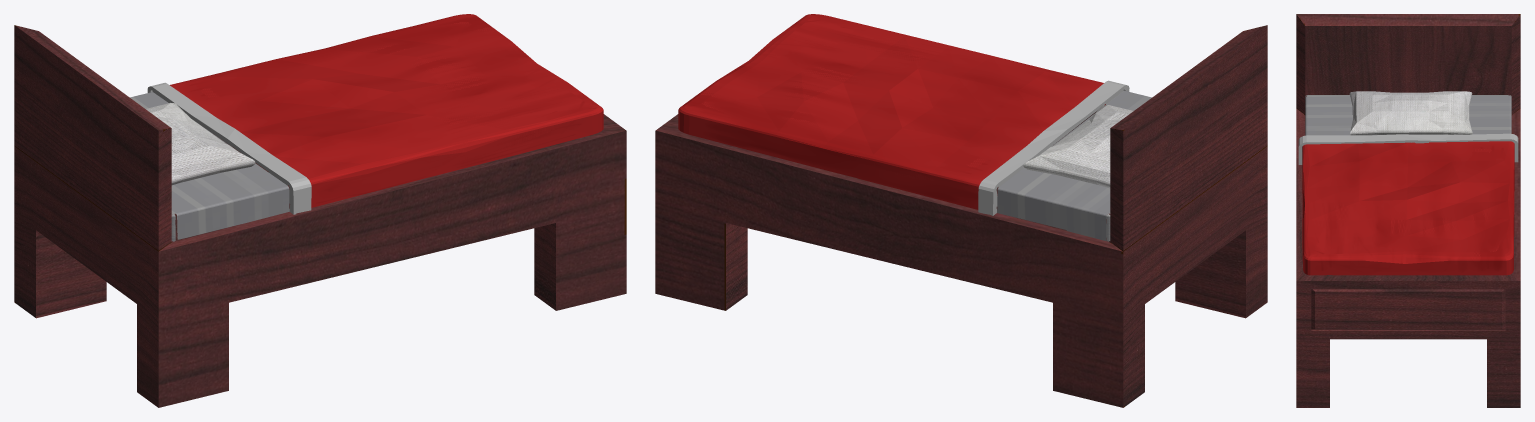
Rendered from Bed.dae.
3 renders of one model, left to right at view 1: azimuth 30°, elevation 25°; view 2: azimuth 150°, elevation 25°; view 3: azimuth 270°, elevation 25°, orthographic. The views are drawn at different scales.
Visible parts, largest first — view 1: Cube; view 2: Cube; view 3: Cube.
Part boxes in pixels (left/top/right/bottom): Cube: left=14, top=14, right=626, bottom=407; Cube: left=655, top=14, right=1267, bottom=407; Cube: left=1296, top=14, right=1520, bottom=407.
Bounding box in the file's own units: 6.01 × 3.2 × 3.4.
1 material, 1 textured.
